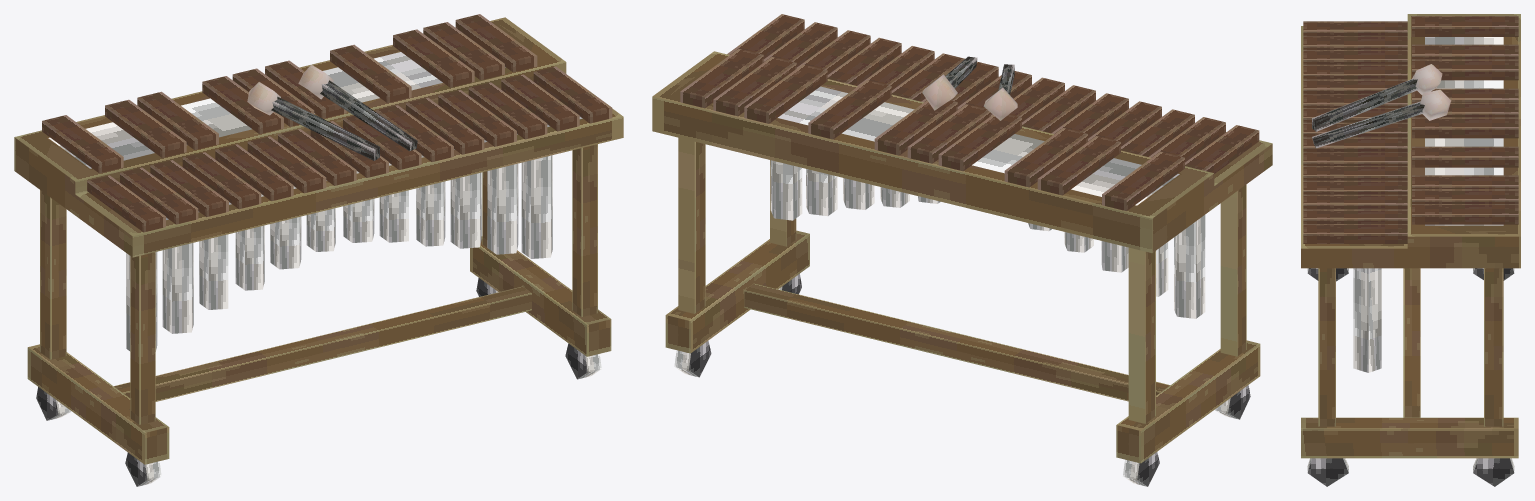
The model's file is o_mokin1.glb.
3 views of the same model, side by side, from view 1: azimuth 30°, elevation 25°; view 2: azimuth 150°, elevation 25°; view 3: azimuth 270°, elevation 25° (orthographic). The views are drawn at different scales.
Visible parts, largest first — view 1: o_mokin1; view 2: o_mokin1; view 3: o_mokin1.
Part boxes in pixels (x1,y1,x2,y2): o_mokin1: (14, 14, 623, 486); o_mokin1: (652, 14, 1272, 486); o_mokin1: (1301, 14, 1520, 486).
Bounding box in the file's own units: 242 × 151 × 101.
7 materials, 7 textured.
